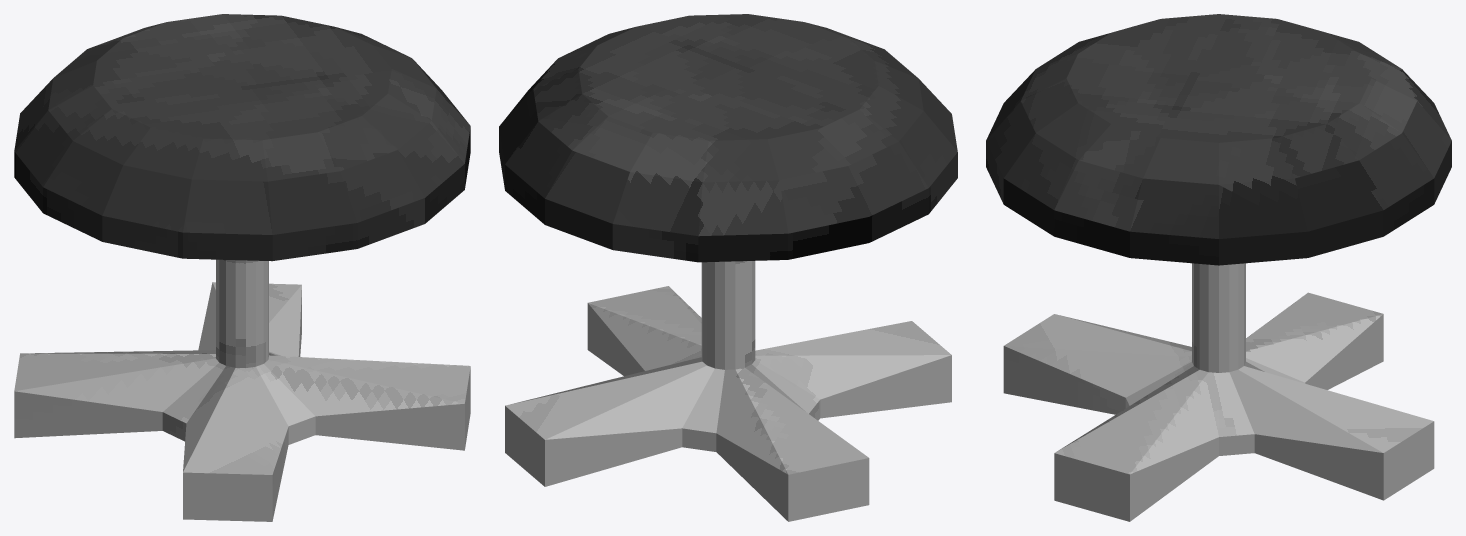
The model's file is Stool.glb.
The picture shows the model from 3 angles, left to right: view 1: azimuth 30°, elevation 25°; view 2: azimuth 150°, elevation 25°; view 3: azimuth 270°, elevation 25°; orthographic projection.
Visible parts, largest first — view 1: Stool; view 2: Stool; view 3: Stool.
Part boxes in pixels (x1,y1,x2,y2): Stool: (14,14,470,521); Stool: (499,14,957,521); Stool: (986,14,1451,521).
Bounding box in the file's own units: 0.8 × 0.668 × 0.8.
Materials: 1 (1 with a texture image).
